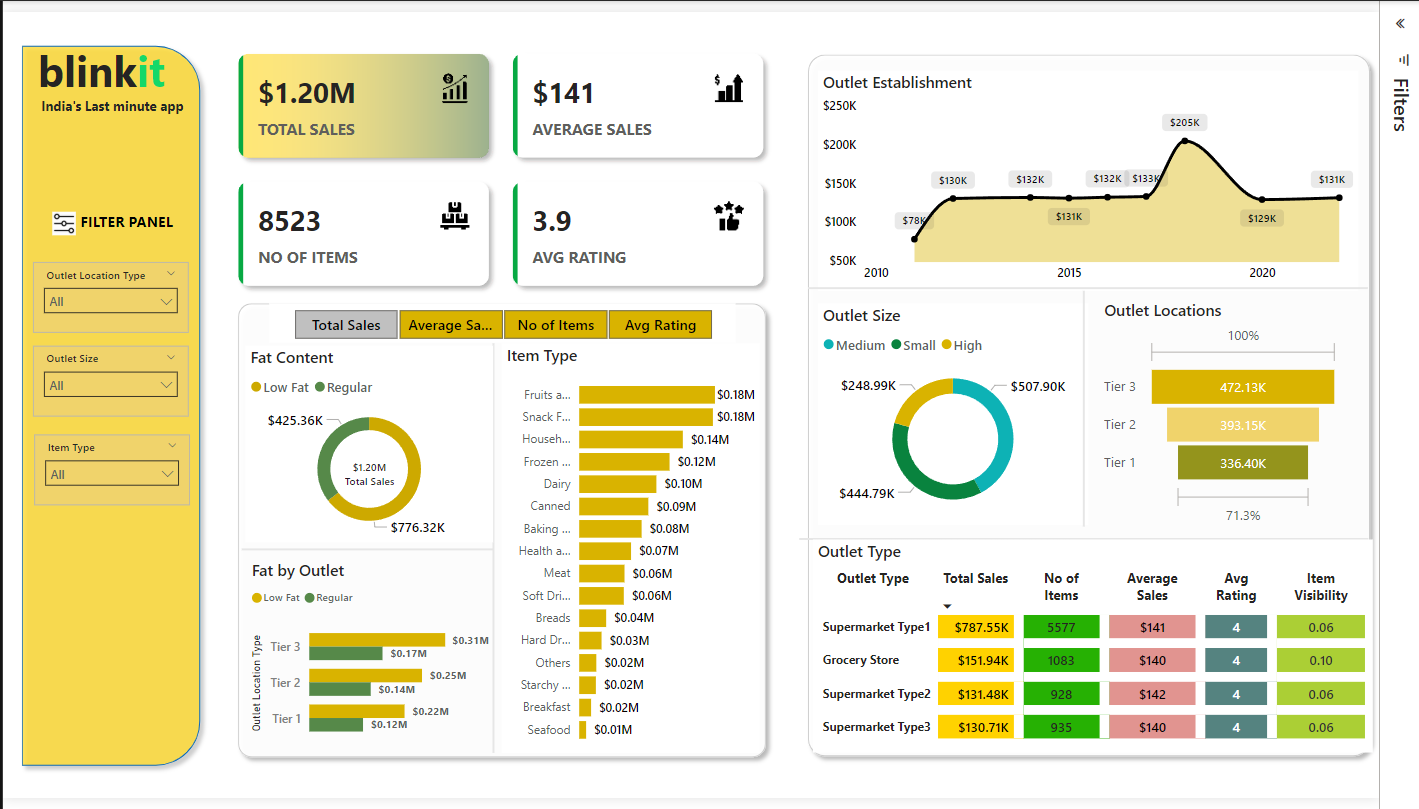

The page's visual inventory and layout, read from the dashboard file:
{"tool":"powerbi","page":{"name":"Page 1","canvas":[1400,800],"ordinal":0},"visuals":[{"type":"shape","box":[10.5,25.5,199.6,750.4],"z":0},{"type":"textbox","box":[10.5,25.5,180.1,82.5],"z":1000},{"type":"textbox","box":[31.5,81,159.1,82.5],"z":2000},{"type":"cardVisual","fields":{"Data":["BlinkIT Grocery Data.Total Sales","BlinkIT Grocery Data.Average Sales","BlinkIT Grocery Data.No of Items","BlinkIT Grocery Data.Avg Rating"]},"box":[222.5,25.5,569.7,270.8],"z":3000},{"type":"shape","box":[230.6,286.9,555,479.9],"z":4000},{"type":"slicer","fields":{"Values":["metrics.metrics"]},"box":[270.8,296.2,474.5,40.2],"z":5000},{"type":"clusteredBarChart","title":"Fat by Outlet","fields":{"Y":["BlinkIT Grocery Data.Total Sales"],"Category":["BlinkIT Grocery Data.Outlet Location Type"],"Series":["BlinkIT Grocery Data.Item Fat Content"]},"box":[248,556.3,252,197.1],"z":6000},{"type":"shape","box":[242.6,536.2,256,20.1],"z":7000},{"type":"shape","box":[489.3,336.5,18.8,416.9],"z":8000},{"type":"barChart","title":"Item Type","fields":{"Y":["BlinkIT Grocery Data.Total Sales"],"Category":["BlinkIT Grocery Data.Item Type"]},"box":[508,336.5,262.7,416.9],"z":9000},{"type":"donutChart","title":"Fat Content","fields":{"Y":["BlinkIT Grocery Data.Total Sales"],"Category":["BlinkIT Grocery Data.Item Fat Content"]},"box":[246.7,339.1,252,199.7],"z":10000},{"type":"cardVisual","fields":{"Data":["BlinkIT Grocery Data.Total Sales"]},"box":[323.1,435.7,100.5,67],"z":11000},{"type":"shape","box":[809.7,34.9,589.8,731.9],"z":12000},{"type":"lineChart","title":"Outlet Establishment","fields":{"Category":["BlinkIT Grocery Data.Outlet Establishment Year"],"Y":["BlinkIT Grocery Data.Total Sales"]},"box":[829.8,60.3,549.6,223.9],"z":13000},{"type":"donutChart","title":"Outlet Size","fields":{"Y":["BlinkIT Grocery Data.Total Sales"],"Category":["BlinkIT Grocery Data.Outlet Size"]},"box":[829.8,296.2,274.8,225.2],"z":14000},{"type":"shape","box":[819,270.8,569.7,20.1],"z":15000},{"type":"funnel","title":"Outlet Locations","fields":{"Y":["Sum(BlinkIT Grocery Data.Sales)"],"Category":["BlinkIT Grocery Data.Outlet Location Type"]},"box":[1115.3,290.9,249.3,235.9],"z":16000},{"type":"shape","box":[809.7,521.5,579.1,29.5],"z":17000},{"type":"shape","box":[1083.1,284.2,32.2,239.9],"z":18000},{"type":"pivotTable","title":"Outlet Type","fields":{"Values":["BlinkIT Grocery Data.Total Sales","BlinkIT Grocery Data.No of Items","BlinkIT Grocery Data.Average Sales","BlinkIT Grocery Data.Avg Rating","Avg(BlinkIT Grocery Data.Item Visibility)"],"Rows":["BlinkIT Grocery Data.Outlet Type"]},"box":[824.4,536.2,569.7,217.2],"z":19000},{"type":"slicer","fields":{"Values":["BlinkIT Grocery Data.Outlet Location Type"]},"box":[30.8,254.7,158.2,72.4],"z":20000},{"type":"slicer","fields":{"Values":["BlinkIT Grocery Data.Outlet Size"]},"box":[30.8,339.1,158.2,72.4],"z":21000},{"type":"slicer","fields":{"Values":["BlinkIT Grocery Data.Item Type"]},"box":[32.2,430.3,158.2,72.4],"z":22000},{"type":"textbox","box":[61.7,198.4,130,37.5],"z":23000},{"type":"image","box":[44.2,198.4,34.9,33.5],"z":24000}]}

Visuals, with their boxes on the page's 1400x800 design canvas (x1, y1, x2, y2). These are canvas units, not pixel positions in the 1419x809 screenshot, which may show the page scaled, cropped or inside an application window:
shape: [left=10, top=26, right=210, bottom=776]
textbox: [left=10, top=26, right=191, bottom=108]
textbox: [left=32, top=81, right=191, bottom=164]
cardVisual - BlinkIT Grocery Data.Total Sales x BlinkIT Grocery Data.Average Sales: [left=222, top=26, right=792, bottom=296]
shape: [left=231, top=287, right=786, bottom=767]
slicer - metrics.metrics: [left=271, top=296, right=745, bottom=336]
"Fat by Outlet" clusteredBarChart: [left=248, top=556, right=500, bottom=753]
shape: [left=243, top=536, right=499, bottom=556]
shape: [left=489, top=336, right=508, bottom=753]
"Item Type" barChart: [left=508, top=336, right=771, bottom=753]
"Fat Content" donutChart: [left=247, top=339, right=499, bottom=539]
cardVisual - BlinkIT Grocery Data.Total Sales: [left=323, top=436, right=424, bottom=503]
shape: [left=810, top=35, right=1400, bottom=767]
"Outlet Establishment" lineChart: [left=830, top=60, right=1379, bottom=284]
"Outlet Size" donutChart: [left=830, top=296, right=1105, bottom=521]
shape: [left=819, top=271, right=1389, bottom=291]
"Outlet Locations" funnel: [left=1115, top=291, right=1365, bottom=527]
shape: [left=810, top=522, right=1389, bottom=551]
shape: [left=1083, top=284, right=1115, bottom=524]
"Outlet Type" pivotTable: [left=824, top=536, right=1394, bottom=753]
slicer - BlinkIT Grocery Data.Outlet Location Type: [left=31, top=255, right=189, bottom=327]
slicer - BlinkIT Grocery Data.Outlet Size: [left=31, top=339, right=189, bottom=412]
slicer - BlinkIT Grocery Data.Item Type: [left=32, top=430, right=190, bottom=503]
textbox: [left=62, top=198, right=192, bottom=236]
image: [left=44, top=198, right=79, bottom=232]
